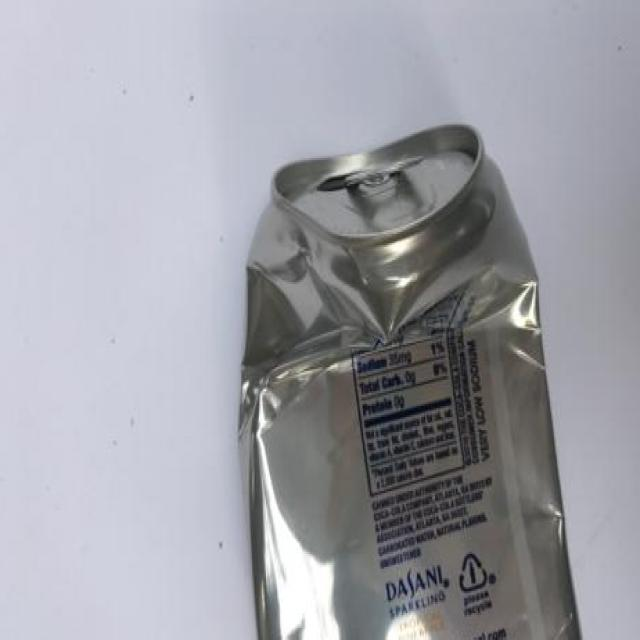metal: (238, 126, 583, 639)
